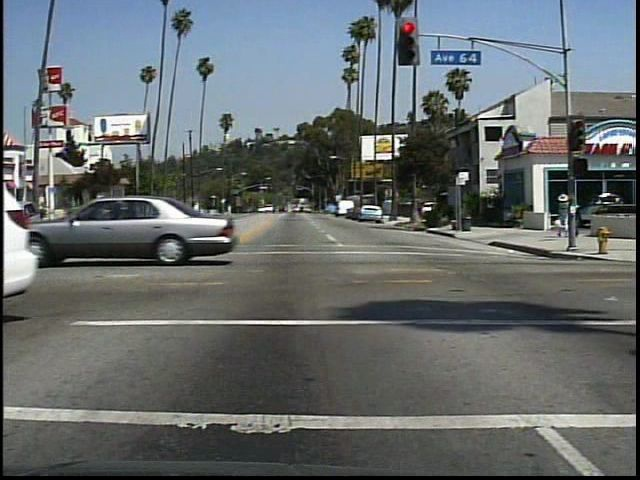person: (551, 189, 571, 242)
